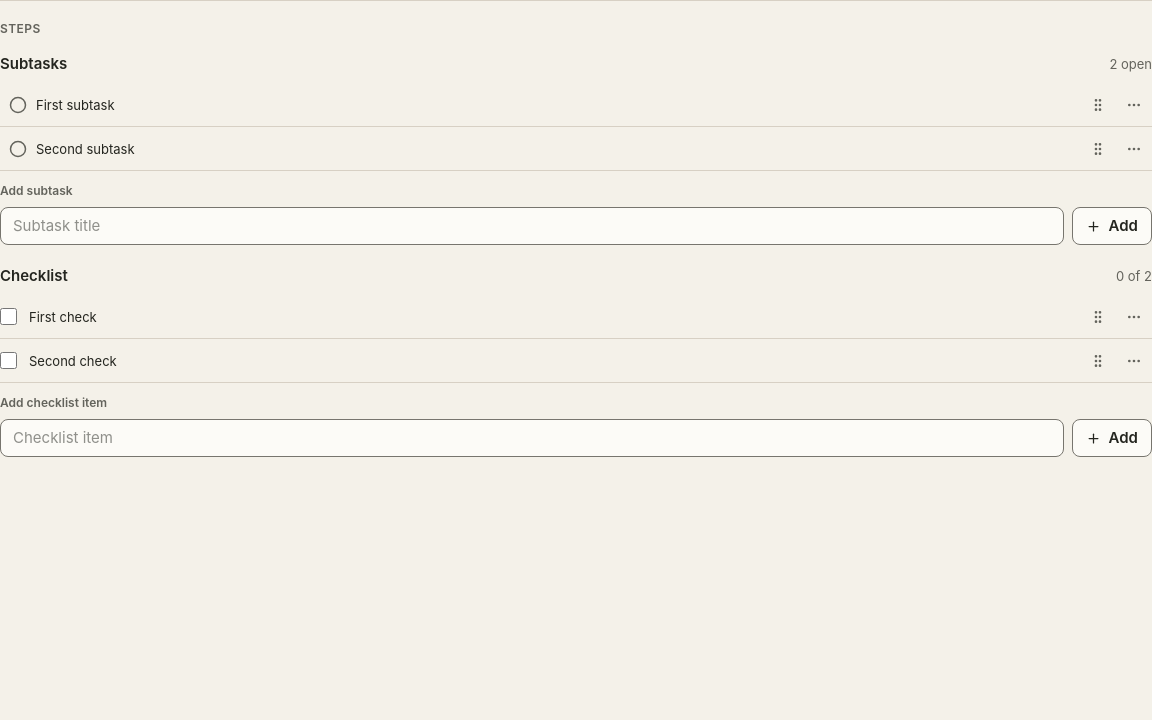
Scenario: TaskStepsEditor reorder parity › confirms checklist removal with safe focus and keeps the dialog open on failure
Step 1. Click the button named "Open actions for First check" → (1134, 316), box [1116,298,1151,334]
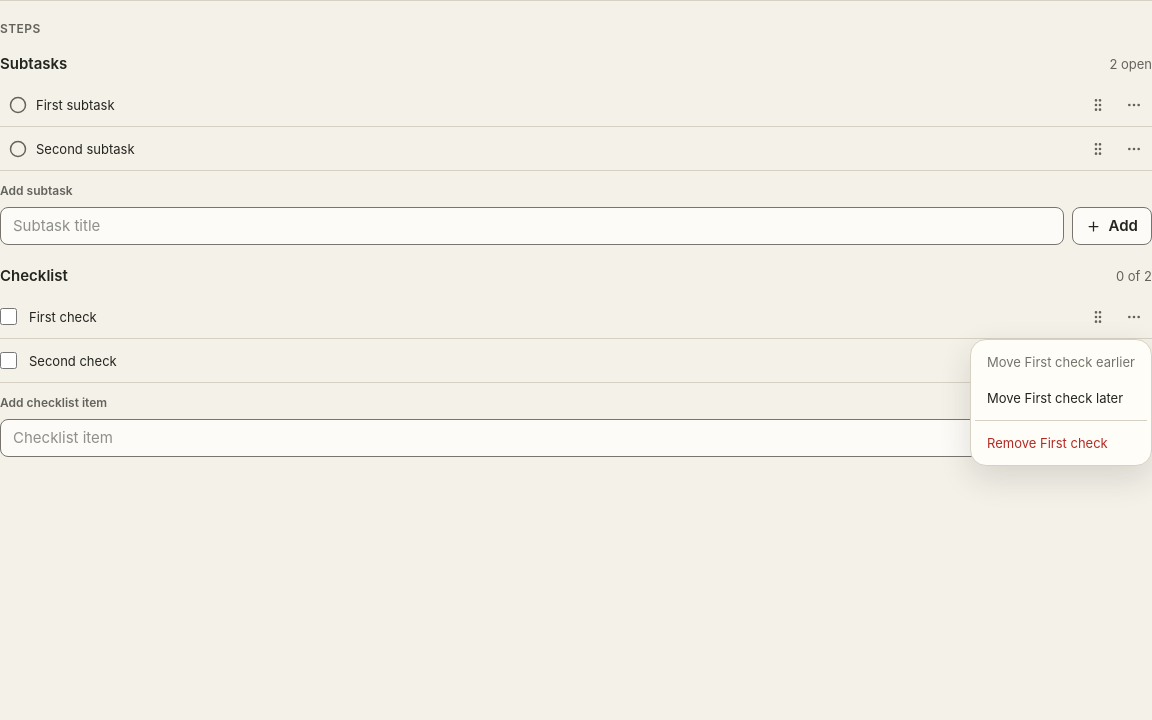
Step 2. Click the menu item "Remove First check" → (1047, 443), box [987,435,1108,451]
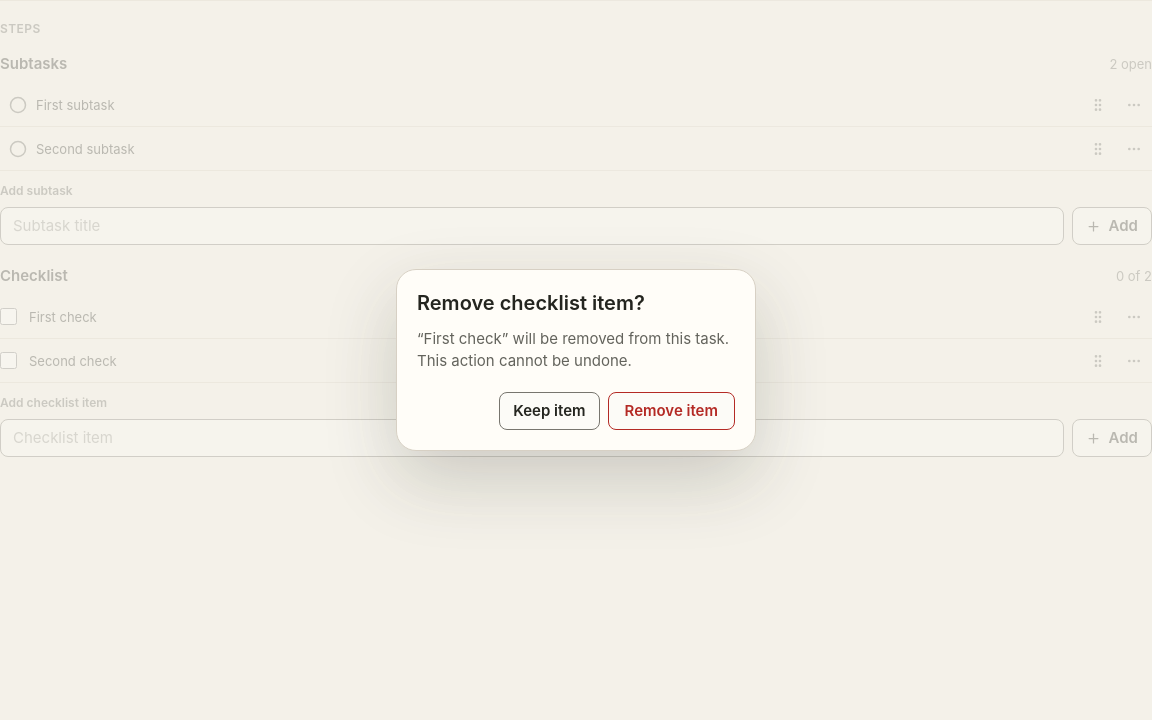
Step 3. Click the button "Remove item" → (671, 411), box [608,392,735,430]
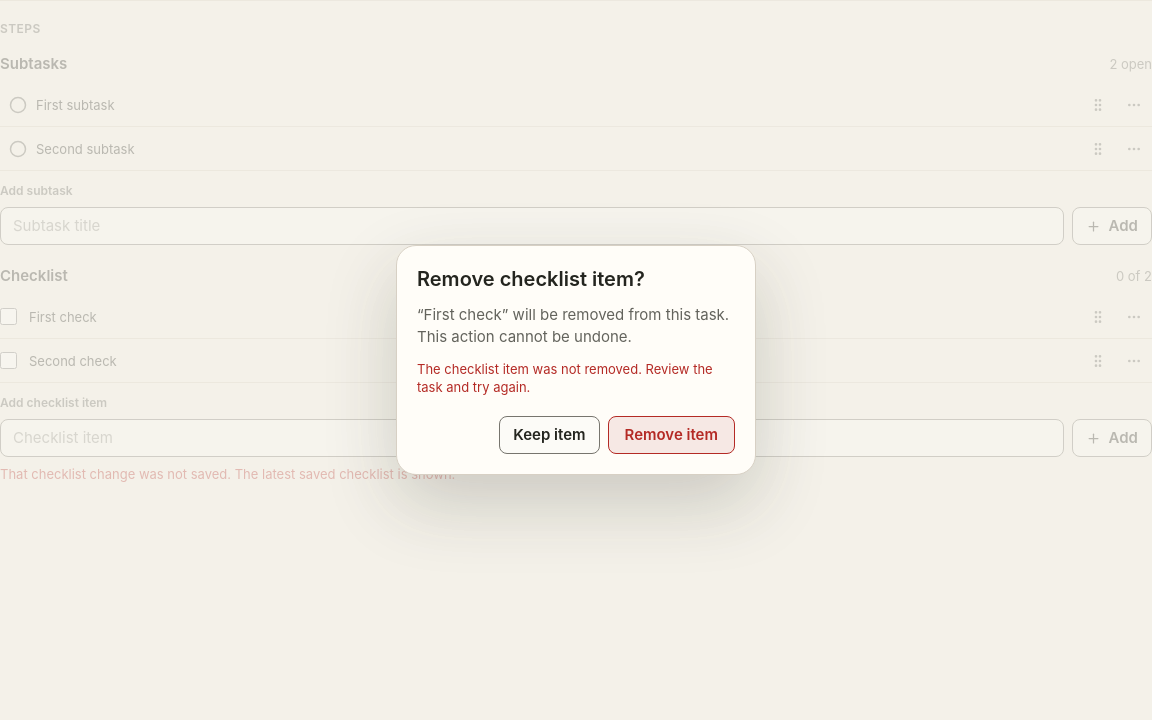
Result: the dialog "Remove checklist item?" is shown at [396,245,756,475]
Result: the text "The checklist item was not removed. Review the task and try again." is shown at [417,360,735,396]
